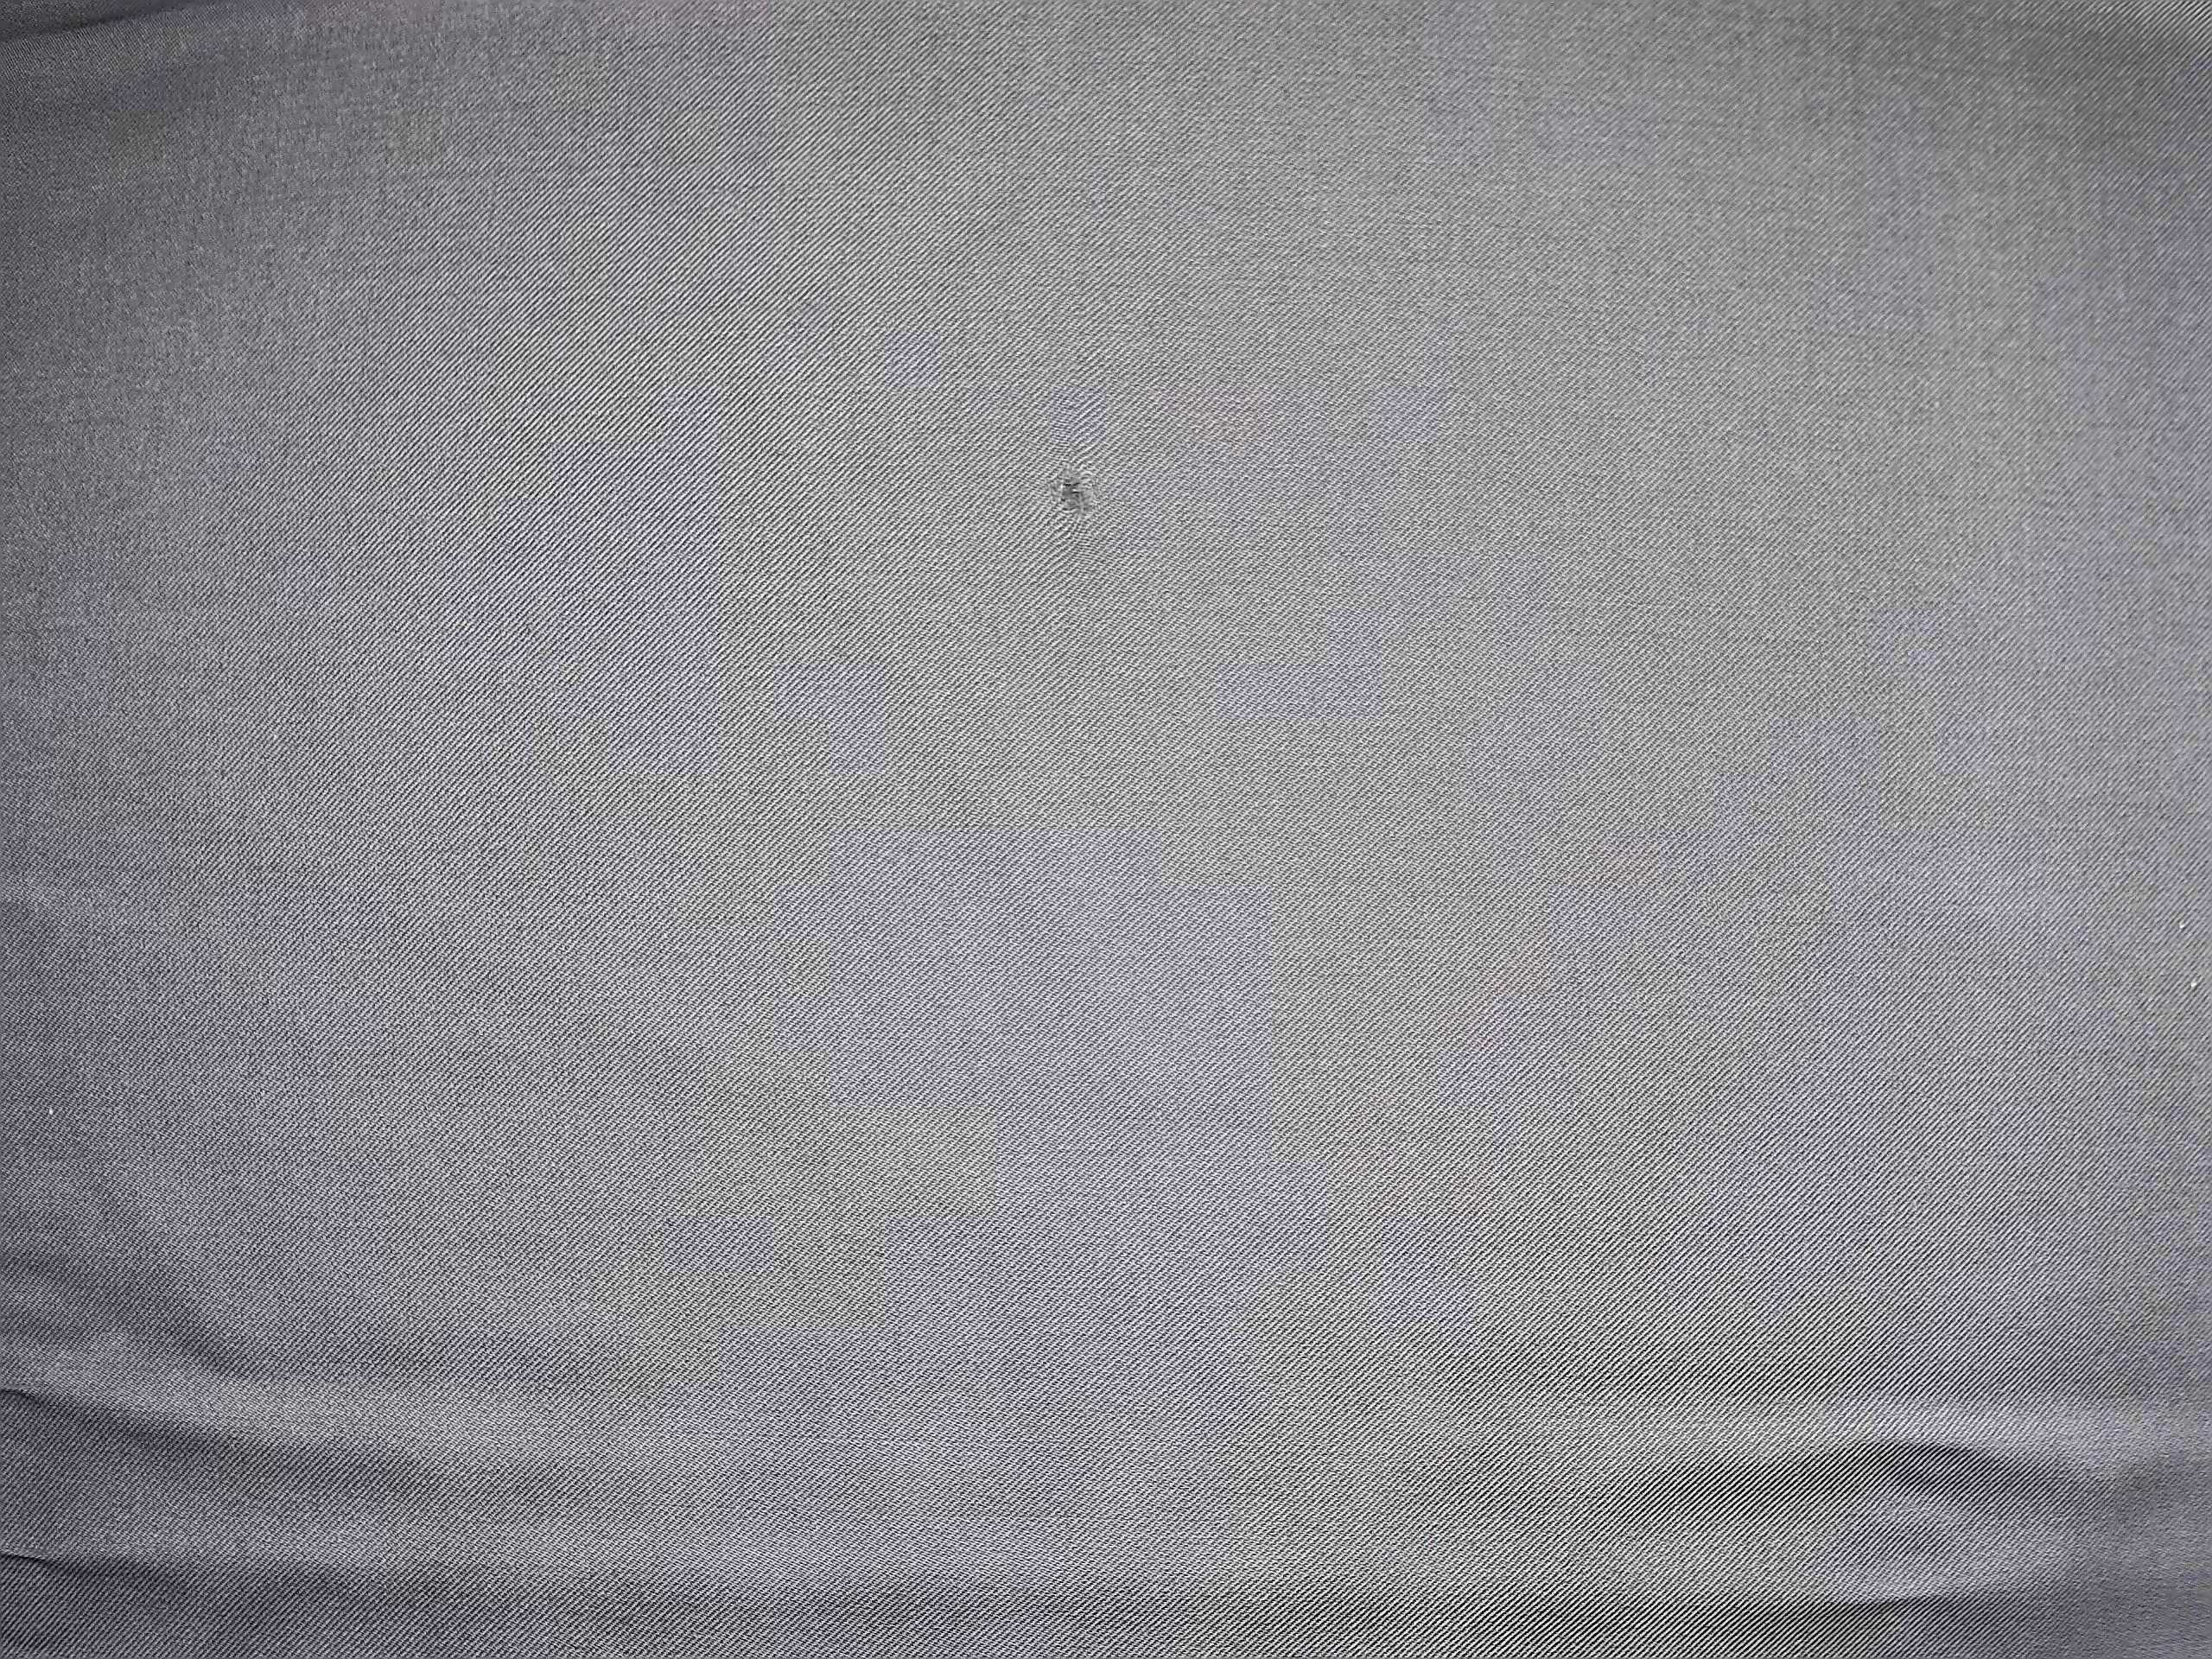rubbing-hole: (1024, 451, 1120, 542)
